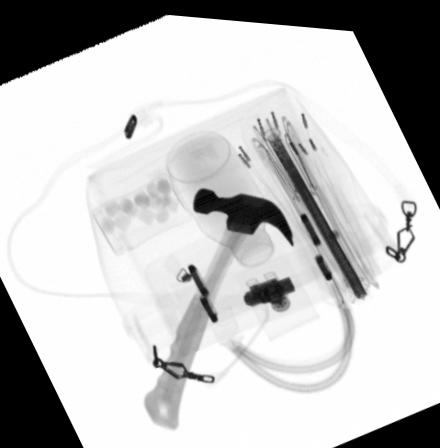Hammer: (141, 182, 296, 428)
